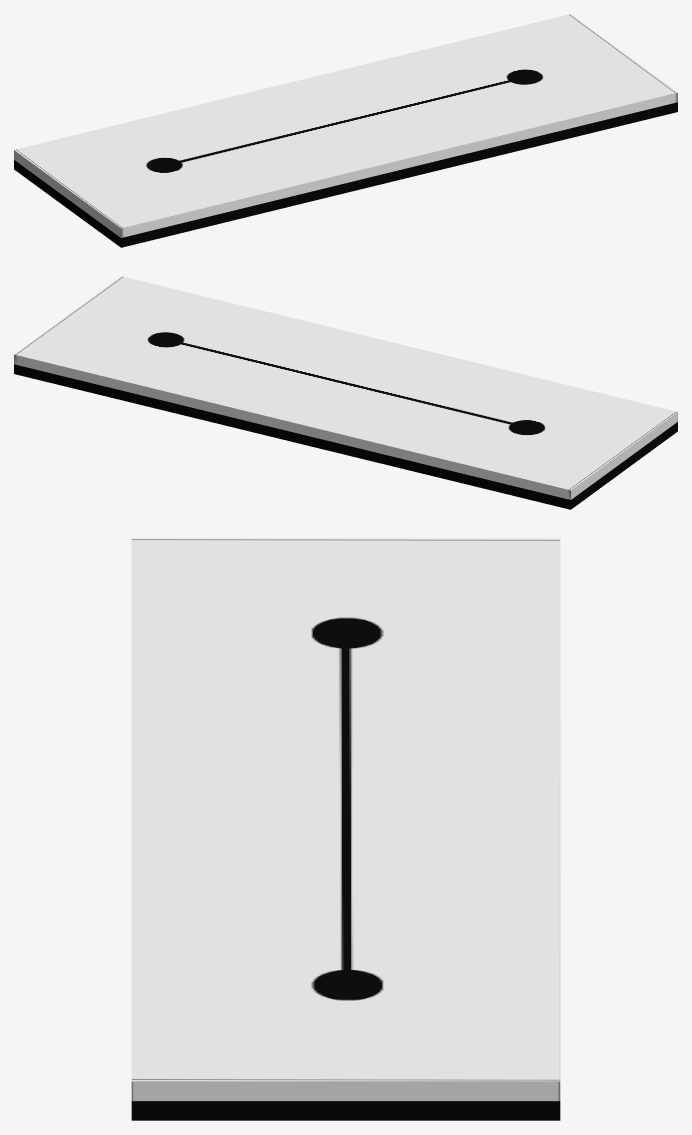
File: One_to_Three_final.fbx
3 views of the same model, one above another, from view 1: azimuth 30°, elevation 25°; view 2: azimuth 150°, elevation 25°; view 3: azimuth 270°, elevation 25° (orthographic). The views are drawn at different scales.
Visible parts, largest first — view 1: pCube1; view 2: pCube1; view 3: pCube1.
Part boxes in pixels (x1,y1,x2,y2): pCube1: [14, 14, 677, 247]; pCube1: [14, 276, 677, 509]; pCube1: [131, 538, 560, 1120].
Size of the model in its own units: 3 by 0.1 by 1.
